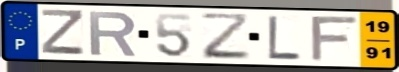5: (154, 12, 194, 58)
F: (309, 15, 361, 63)
L: (267, 14, 303, 62)
R: (87, 10, 139, 58)
Z: (198, 12, 253, 61), (39, 8, 86, 57)
